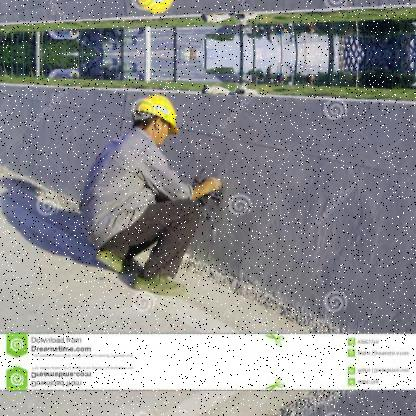Helmet: (121, 86, 192, 145)
